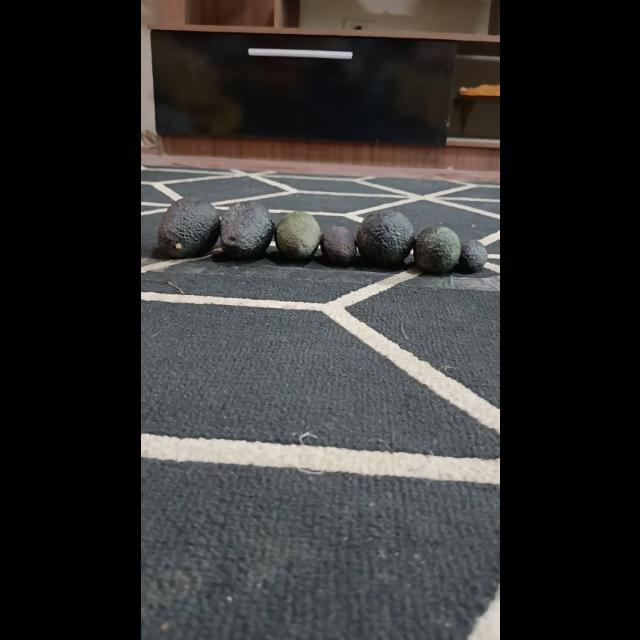Primera: (154, 197, 218, 260), (355, 209, 415, 267), (218, 201, 274, 259)
Segunda: (274, 210, 322, 260), (414, 225, 462, 273)
Tercera: (320, 225, 358, 265), (457, 239, 487, 273)
